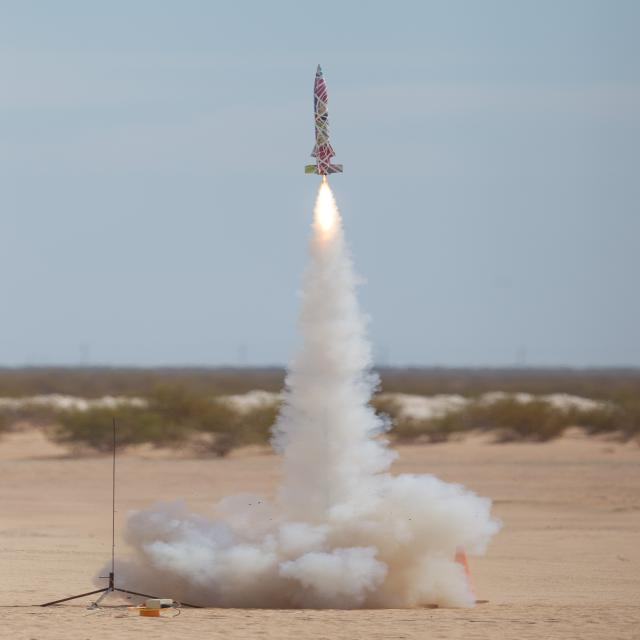Rocket: (304, 63, 344, 176)
